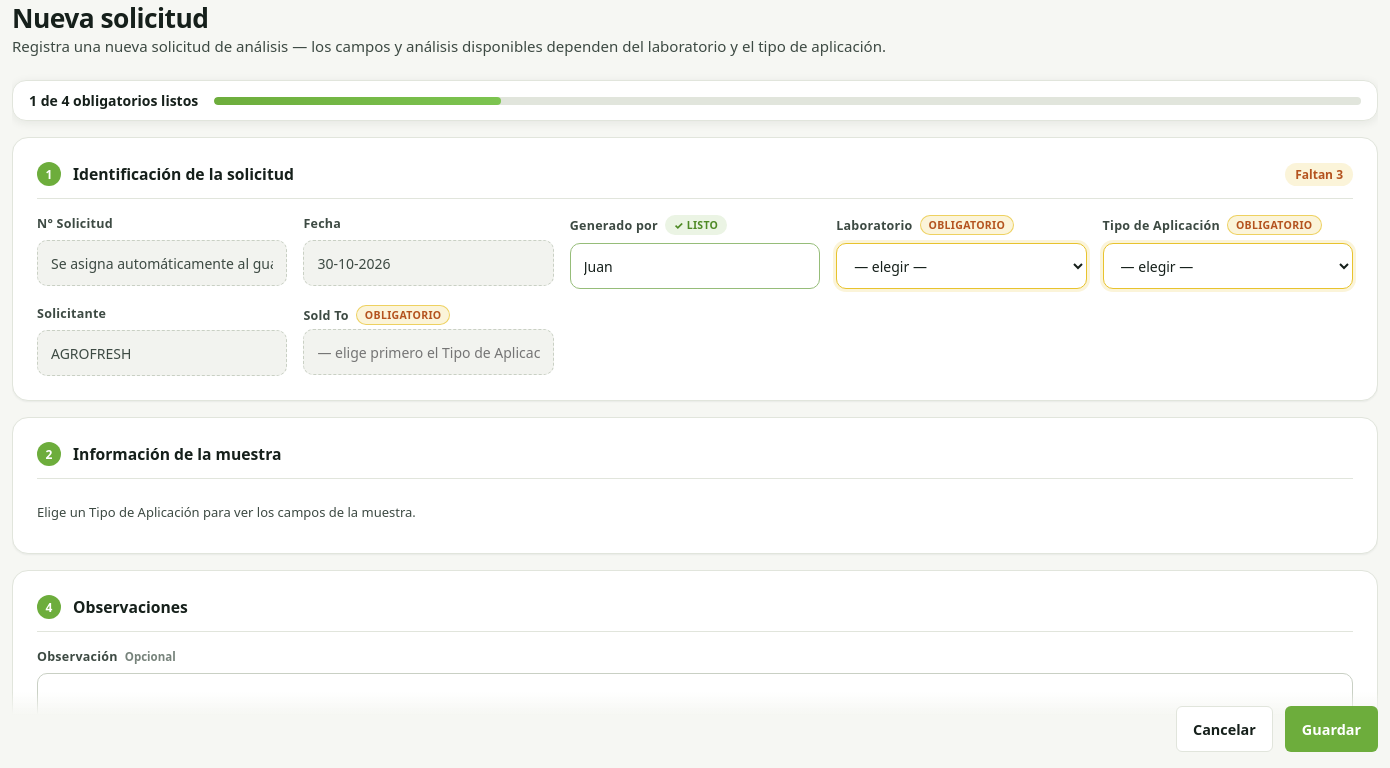
it: NuevaSolicitudView — crear › el checkbox de un Análisis Seleccionable marca y desmarca de una vez todos sus analitos
Select "AgroFresh" in the dropdown labelled "Laboratorio" at {"x": 961, "y": 266}, box x1=836 y1=243 x2=1087 y2=289
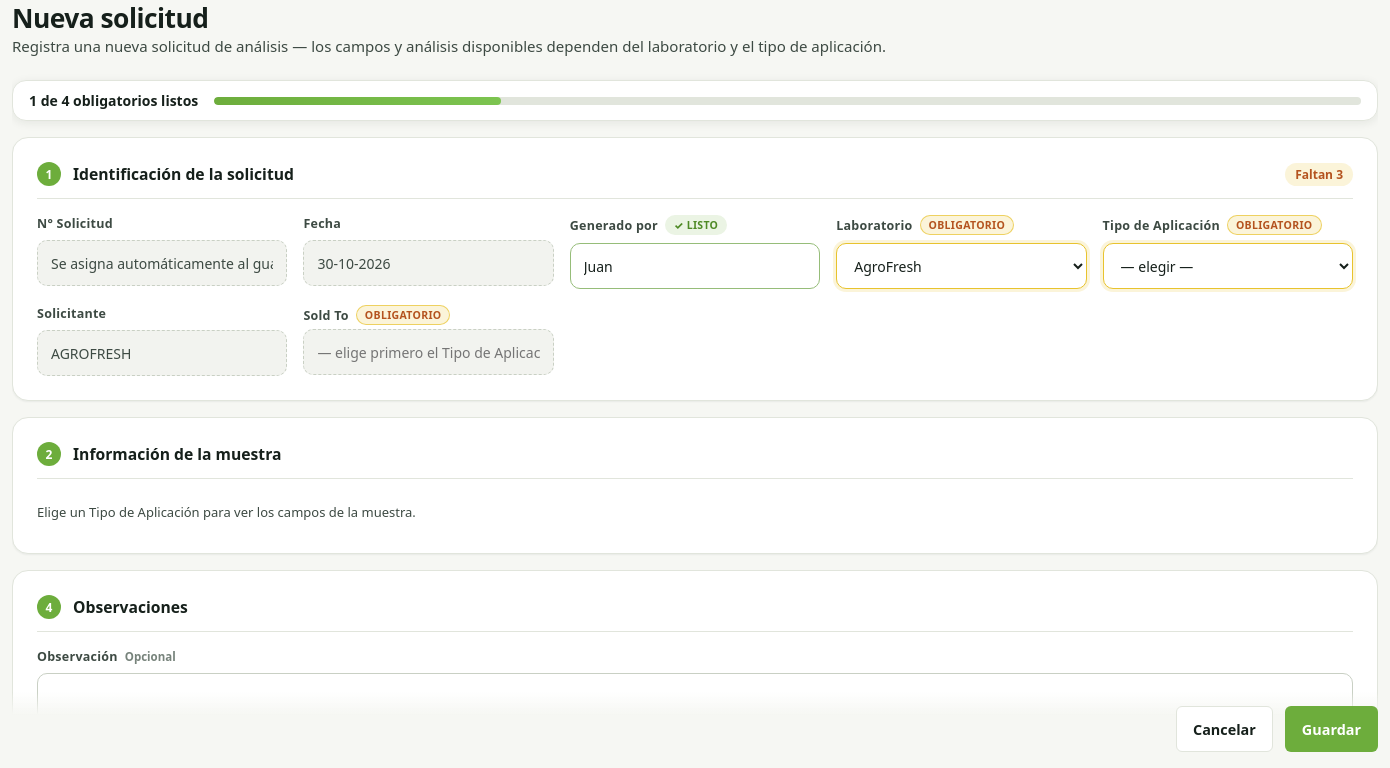
Select "Actimist" in the dropdown labelled "Tipo de Aplicación" at {"x": 1228, "y": 266}, box x1=1103 y1=243 x2=1353 y2=289
(page scrolled)
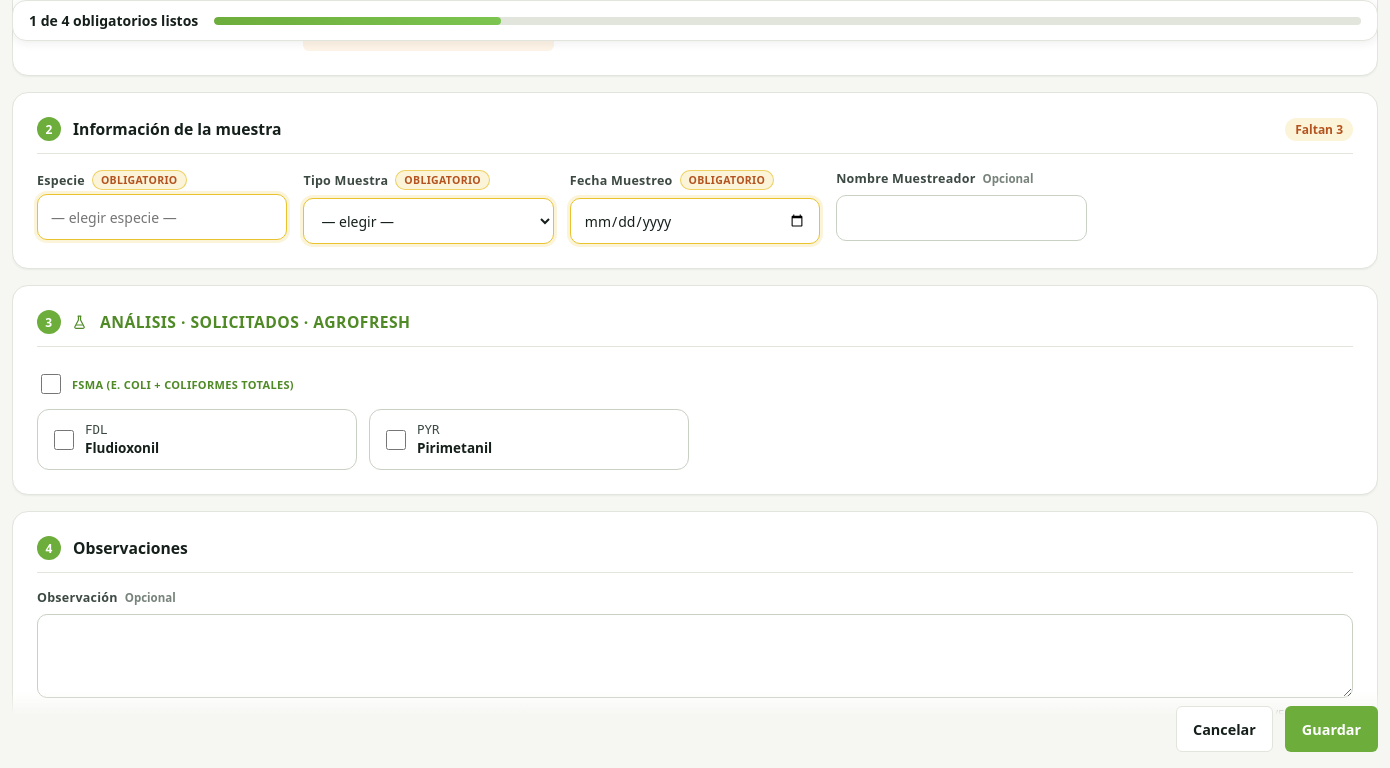
Result: the checkbox named "Seleccionar todo el análisis FSMA (E. Coli + Coliformes Totales)" is shown
Result: the checkbox labelled "FDL Fludioxonil" is not checked at x1=54 y1=430 x2=74 y2=450
Result: the checkbox labelled "PYR Pirimetanil" is not checked at x1=386 y1=430 x2=406 y2=450
Click the checkbox named "Seleccionar todo el análisis FSMA (E. Coli + Coliformes Totales)".
click(51, 384)  # box x1=41 y1=374 x2=61 y2=394
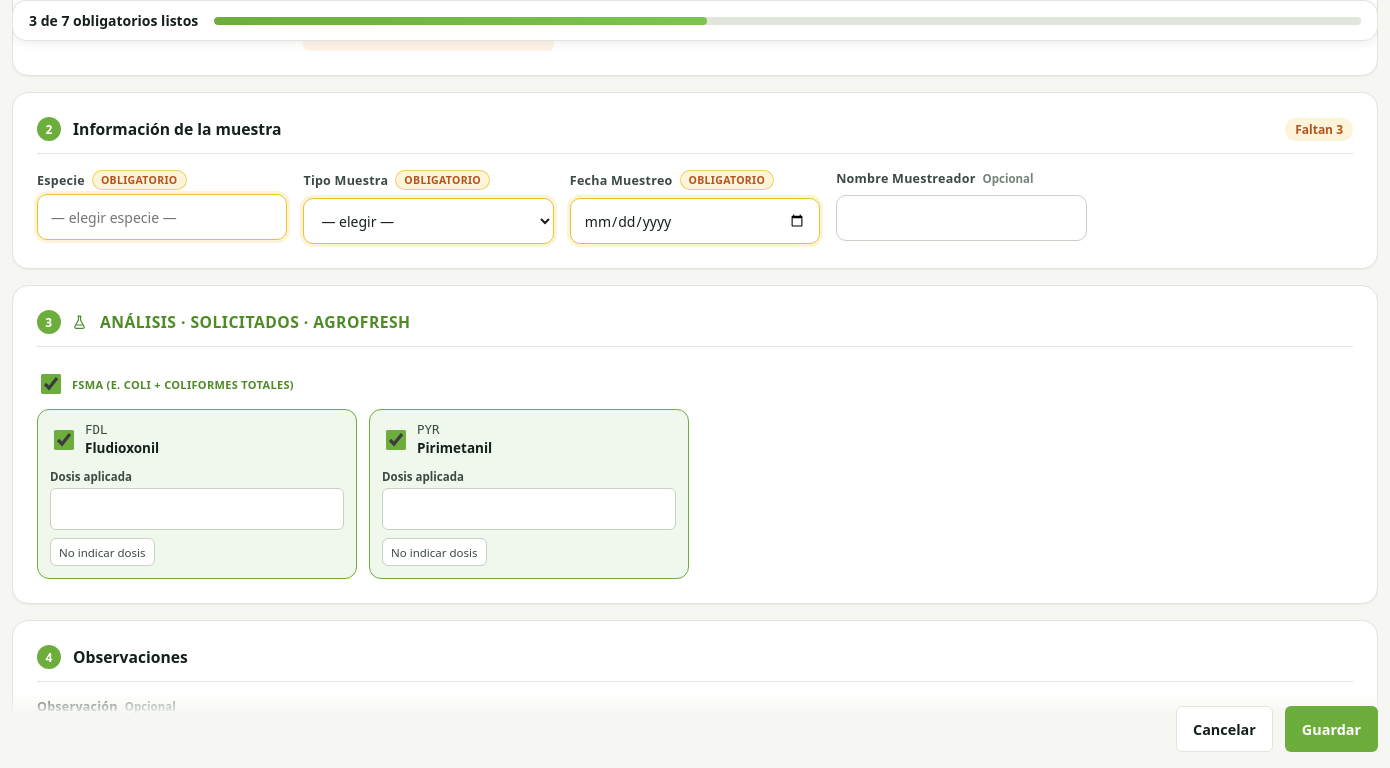
Result: the checkbox labelled "FDL Fludioxonil" is checked at x1=54 y1=430 x2=74 y2=450
Result: the checkbox labelled "PYR Pirimetanil" is checked at x1=386 y1=430 x2=406 y2=450
Click the checkbox named "Seleccionar todo el análisis FSMA (E. Coli + Coliformes Totales)".
click(51, 384)  # box x1=41 y1=374 x2=61 y2=394
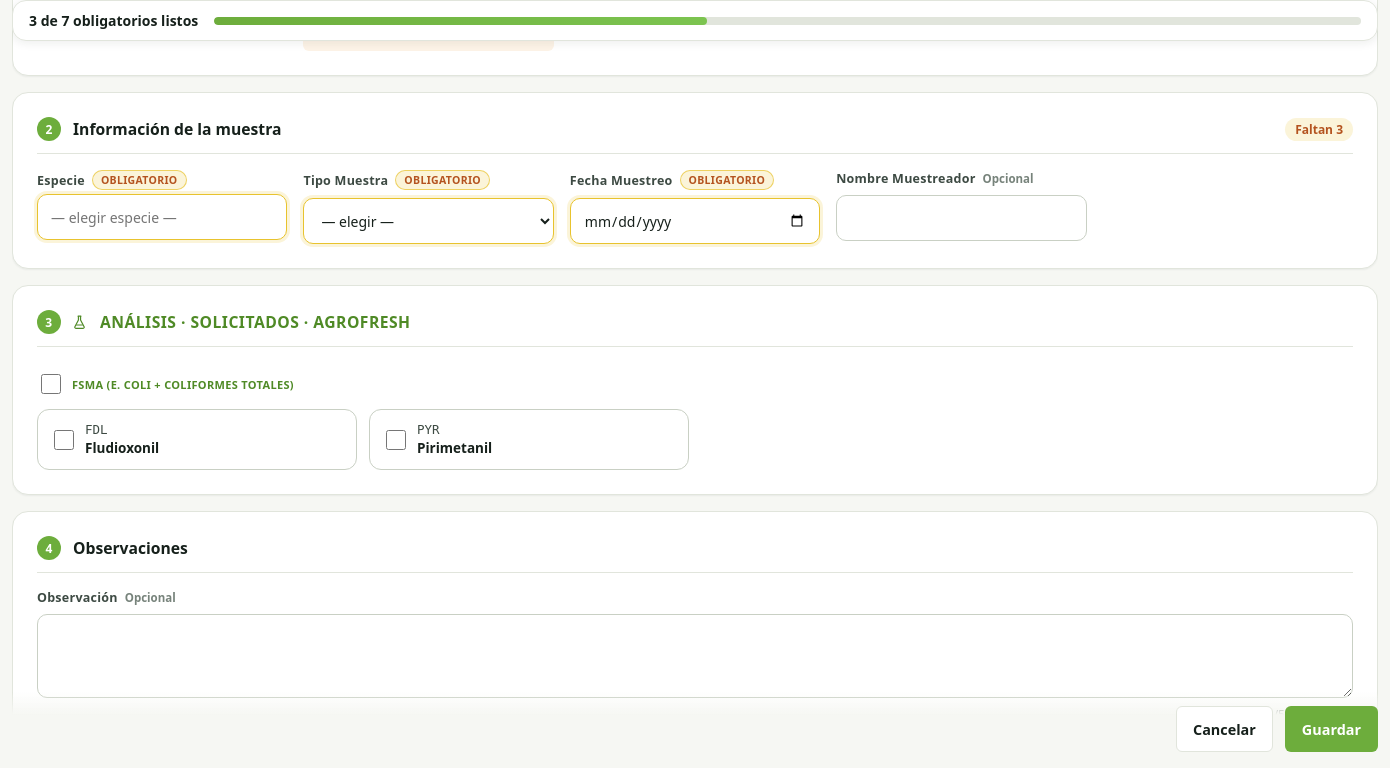
Result: the checkbox labelled "FDL Fludioxonil" is not checked at x1=54 y1=430 x2=74 y2=450
Result: the checkbox labelled "PYR Pirimetanil" is not checked at x1=386 y1=430 x2=406 y2=450
